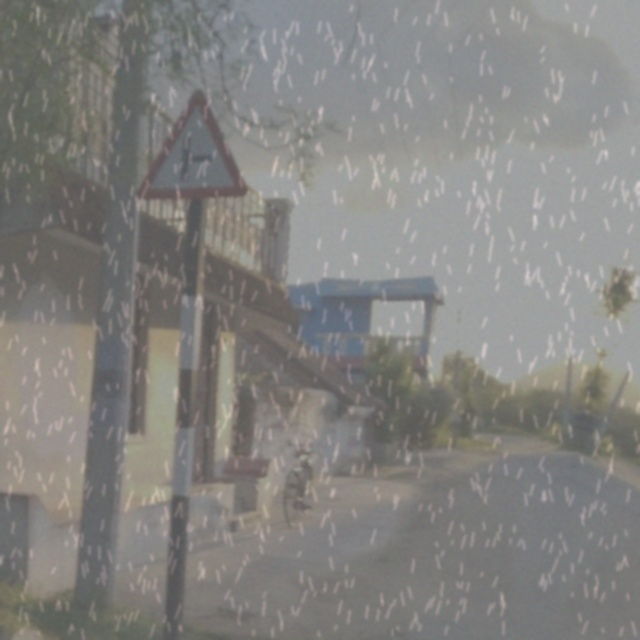Side_Road_Right: (125, 76, 273, 226)
